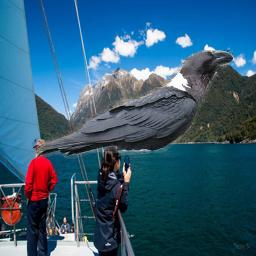Crow: (34, 50, 234, 159)
